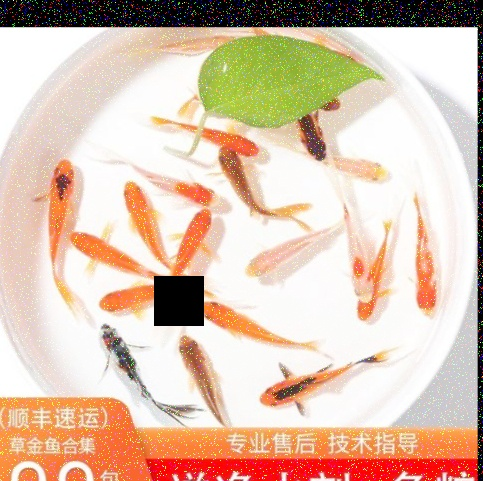fry: (244, 353, 383, 418), (192, 289, 310, 356), (29, 147, 79, 304), (95, 318, 164, 410), (403, 199, 453, 325), (216, 145, 286, 227), (167, 207, 224, 292), (173, 326, 225, 419), (242, 228, 328, 281), (113, 171, 164, 258), (334, 203, 377, 306), (172, 114, 262, 159), (138, 164, 223, 211), (67, 226, 141, 277), (354, 229, 393, 325), (143, 29, 243, 64), (316, 146, 395, 185), (90, 282, 179, 316), (284, 107, 331, 166)
